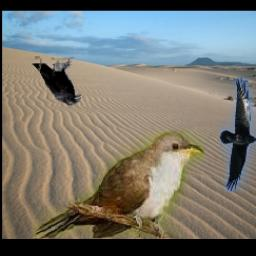Crow: (219, 78, 256, 192), (31, 56, 82, 106)
Cuckoo: (34, 131, 205, 239)
